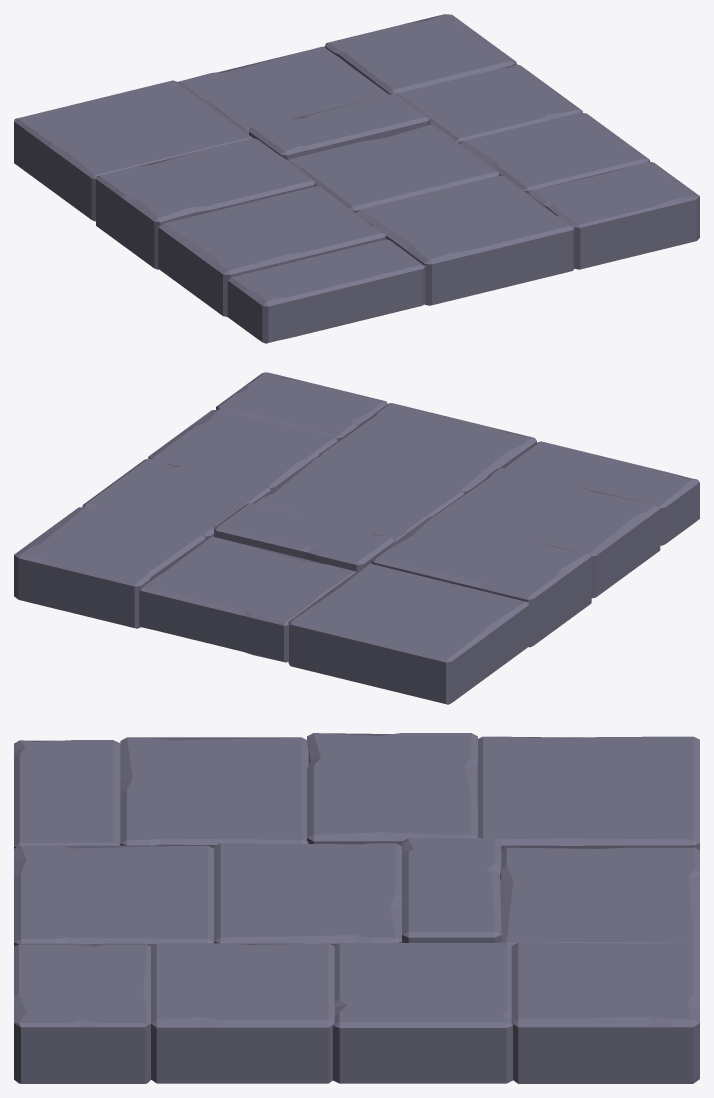
File: town_floor.glb
The picture shows the model from 3 angles, top to bottom: view 1: azimuth 30°, elevation 25°; view 2: azimuth 150°, elevation 25°; view 3: azimuth 270°, elevation 25°; orthographic projection. The views are drawn at different scales.
Parts seen in each view (by area): view 1: Floor_Modular; view 2: Floor_Modular; view 3: Floor_Modular.
Part boxes in pixels (x1,y1,x2,y2): Floor_Modular: (14, 14, 699, 343); Floor_Modular: (14, 372, 699, 704); Floor_Modular: (14, 733, 699, 1083).
Size of the model in its own units: 1 by 0.12 by 1.
